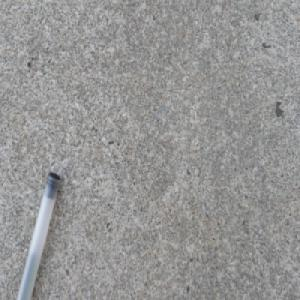Pen: (14, 170, 62, 300)
